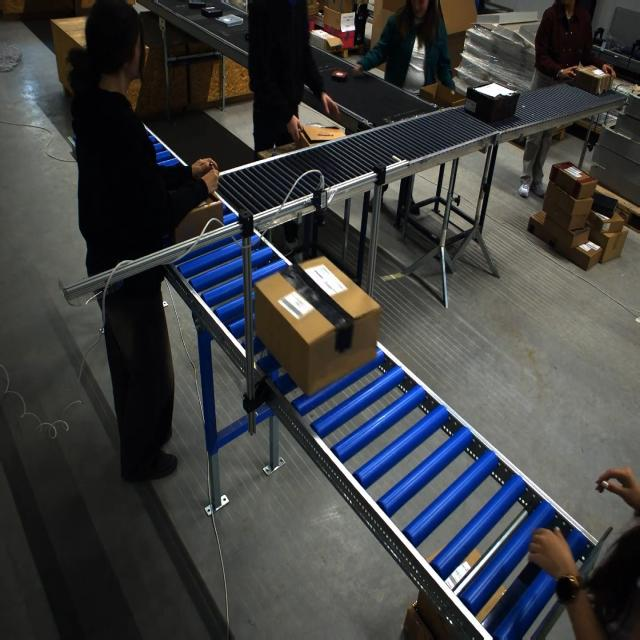box: (254, 261, 363, 395), (175, 194, 224, 245), (464, 82, 521, 125), (417, 82, 466, 111), (300, 124, 340, 146)
product: (214, 13, 243, 27), (200, 6, 223, 18), (188, 0, 206, 8)
